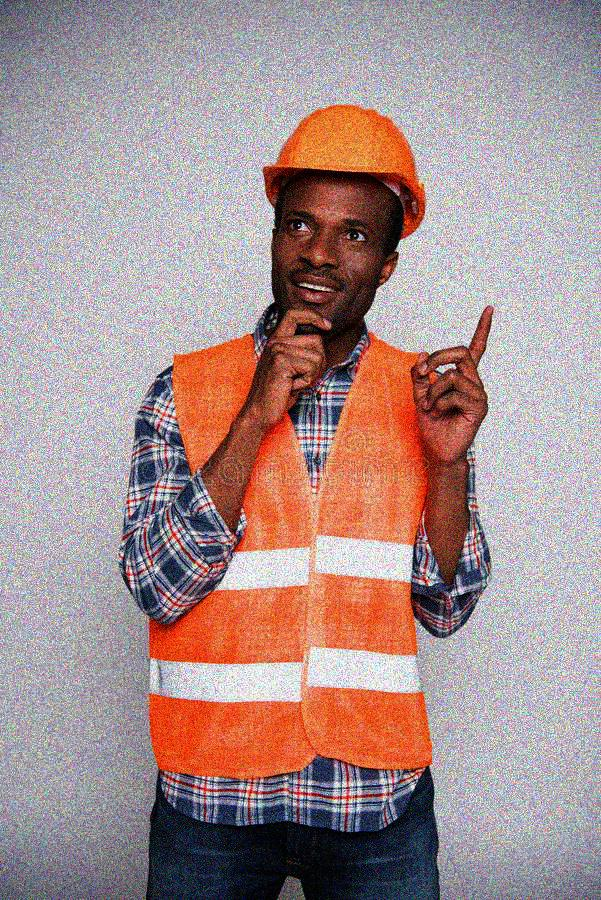helmet: (263, 104, 429, 337)
